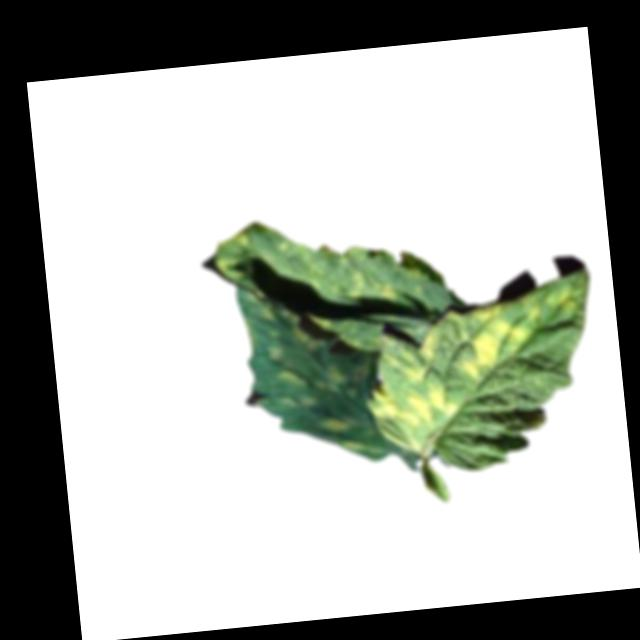Leaf_Mold: (451, 292, 547, 381), (367, 378, 462, 432), (397, 324, 440, 384), (284, 308, 330, 354), (312, 361, 347, 397), (318, 410, 357, 435), (277, 366, 309, 389), (378, 280, 399, 301), (230, 227, 249, 246)
